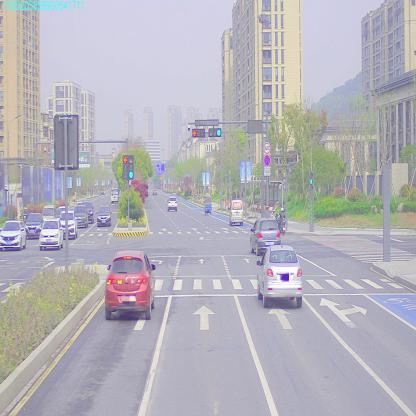traffic-light: (190, 128, 204, 139), (209, 126, 224, 136)
